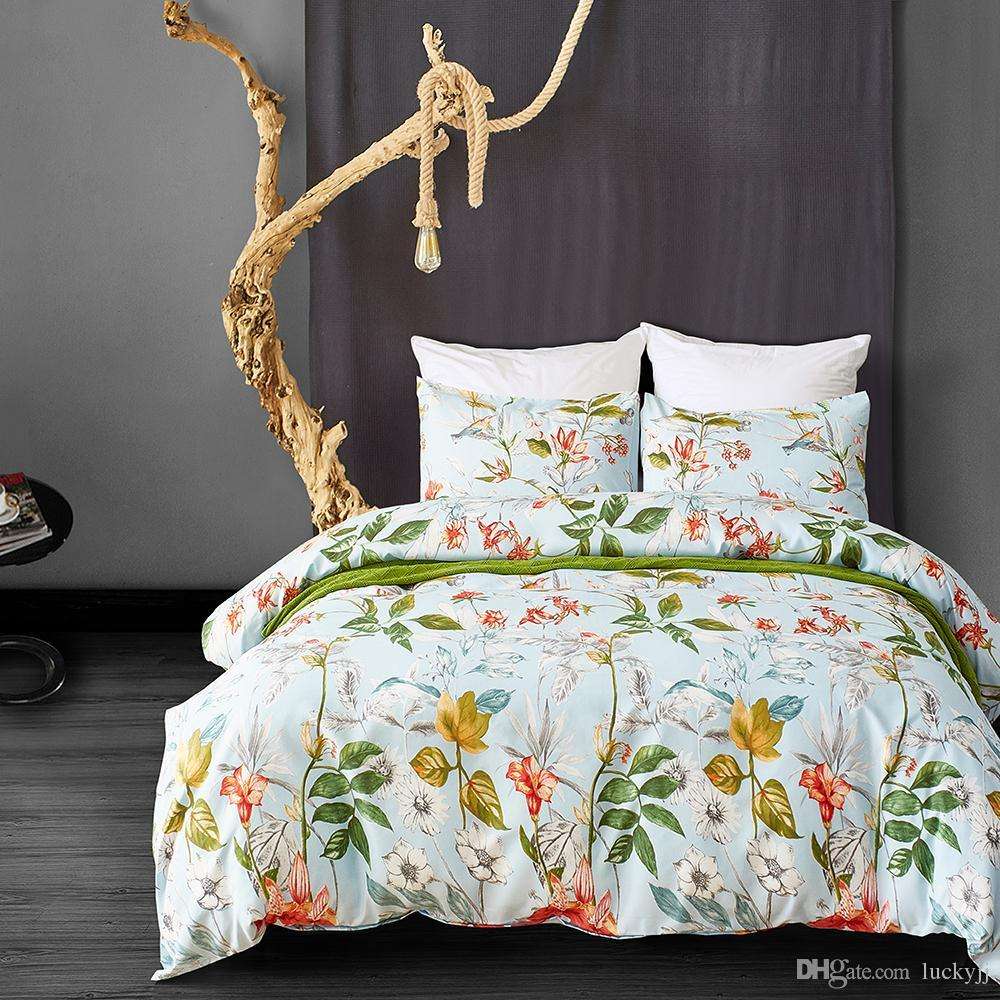bed: (232, 435, 1000, 975)
